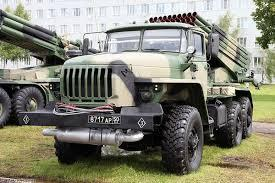MIL_SAM_TEL: (59, 12, 256, 164), (1, 5, 78, 124)
